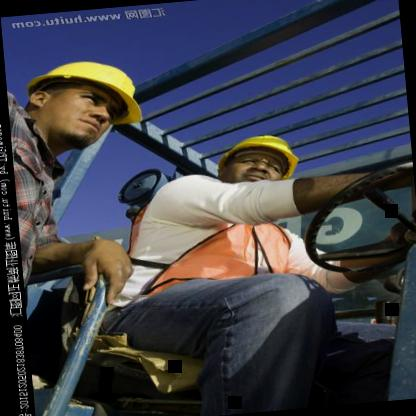helmet: (8, 40, 158, 161), (201, 122, 314, 202)
